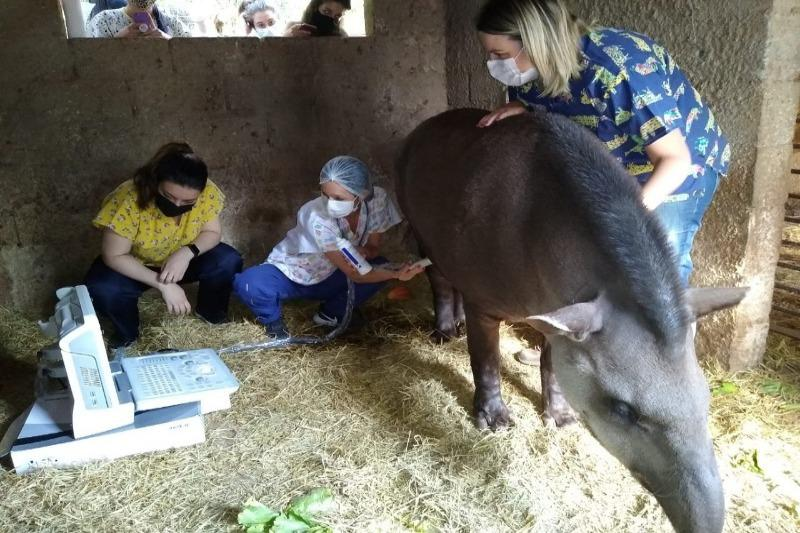Anta: (395, 100, 743, 530)
